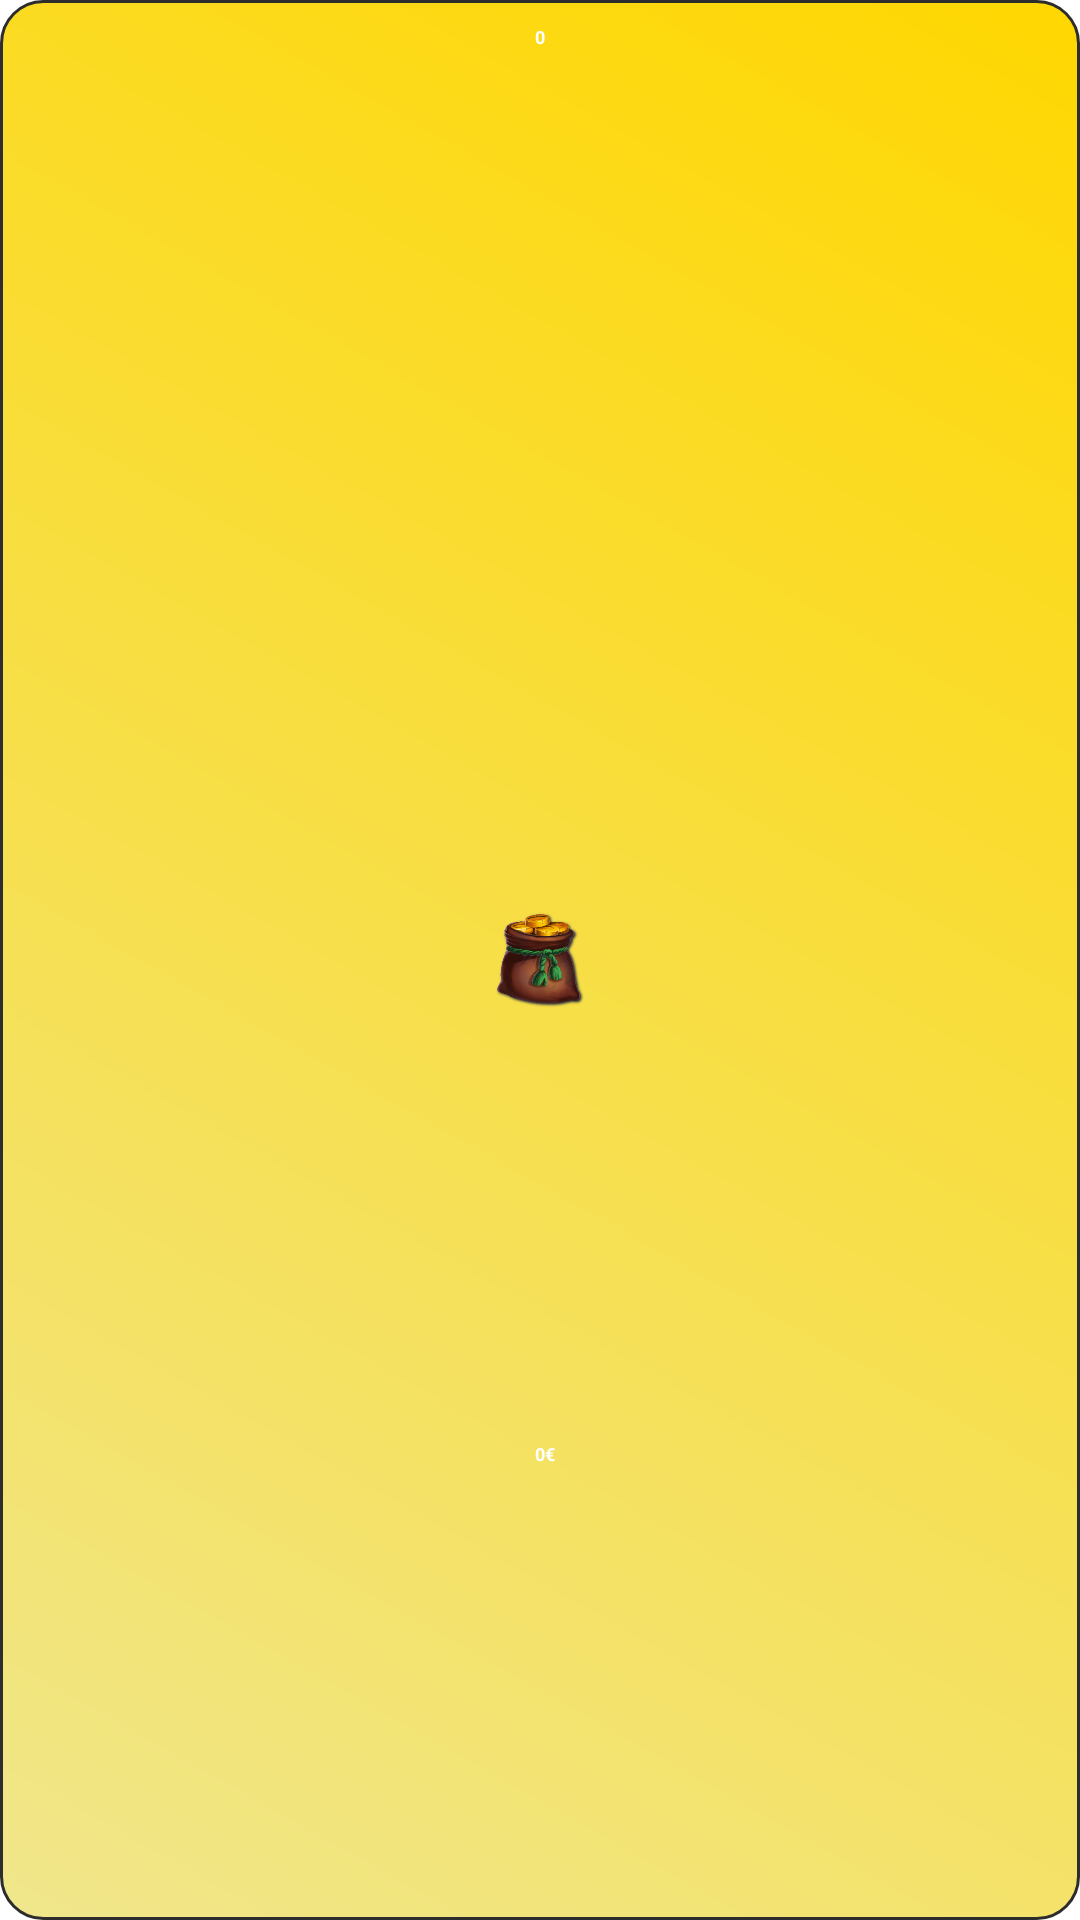

Icons on this 1080*1920 Android screen, each with the point to tap as (x,y):
coinbag: (540,960)
